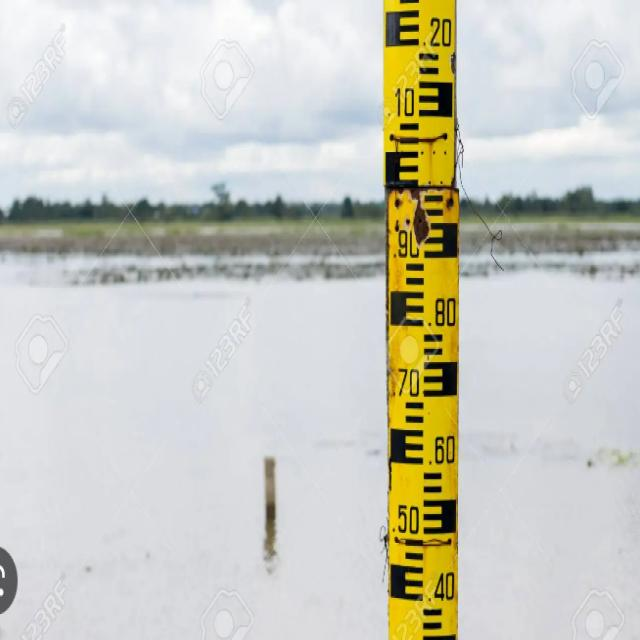ruler: (380, 0, 473, 634)
value: (389, 498, 425, 539), (422, 566, 458, 607), (424, 14, 457, 53), (426, 432, 459, 471), (390, 364, 422, 402), (429, 293, 460, 330), (388, 84, 417, 122), (392, 227, 422, 261)
